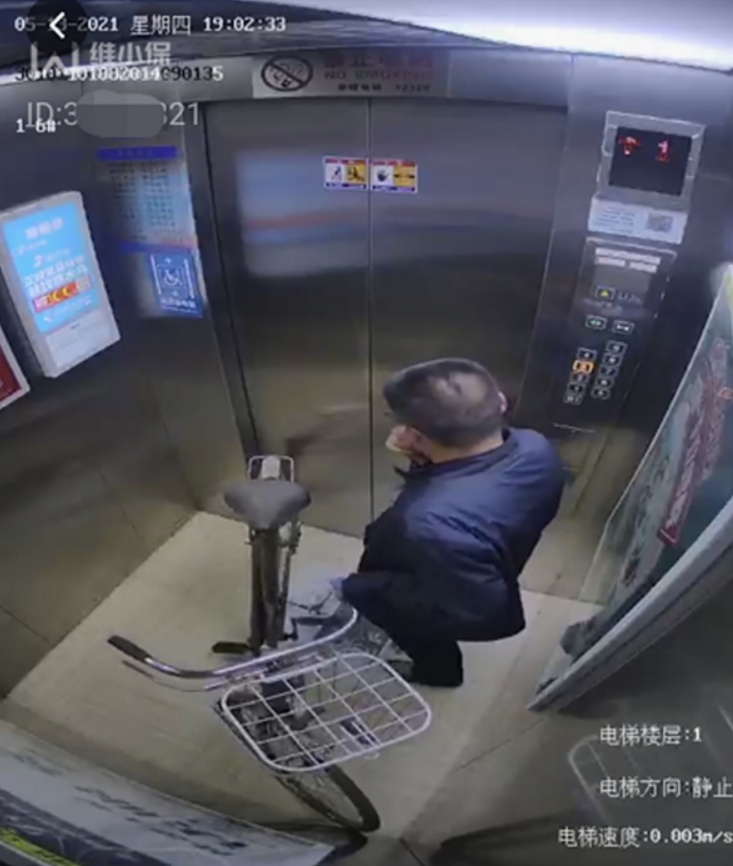person: (337, 365, 567, 685)
